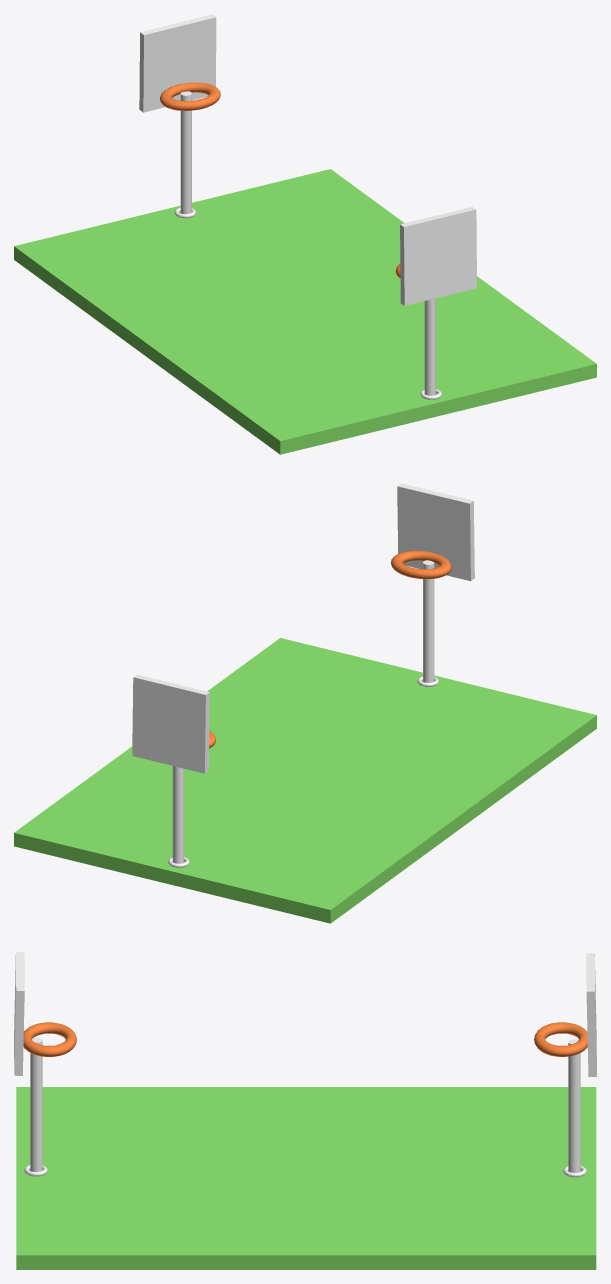
Rendered from Basketball_court.fbx.
3 renders of one model, top to bottom at view 1: azimuth 30°, elevation 25°; view 2: azimuth 150°, elevation 25°; view 3: azimuth 270°, elevation 25°, orthographic. The views are drawn at different scales.
Visible parts, largest first — view 1: Cube; view 2: Cube; view 3: Cube.
Part boxes in pixels (x1=…): Cube: x1=14, y1=14, x2=596, y2=454; Cube: x1=14, y1=483, x2=596, y2=923; Cube: x1=14, y1=952, x2=596, y2=1269.
Bounding box in the file's own units: 357 × 213 × 523.
